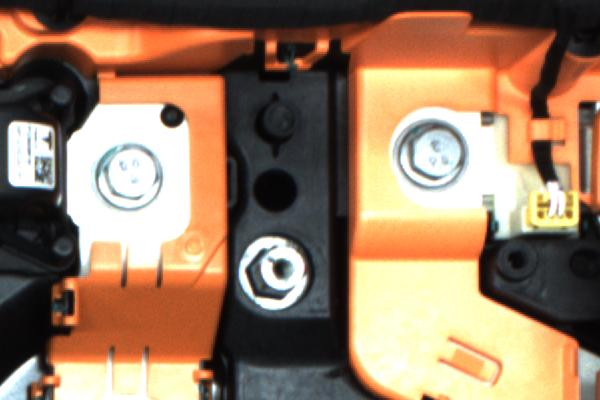nut_b: (388, 113, 475, 191), (89, 133, 171, 213)
